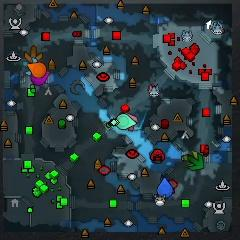p1: (157, 178, 173, 198)
p2: (116, 113, 136, 129)
p3: (31, 72, 50, 86)
p5: (27, 63, 47, 79)
x1: (128, 113, 139, 132)
x2: (183, 149, 200, 166)
x3: (23, 58, 39, 74)
x4: (188, 155, 205, 170)
x5: (25, 46, 42, 62)
